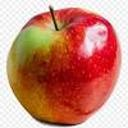apple: (6, 4, 122, 128)
